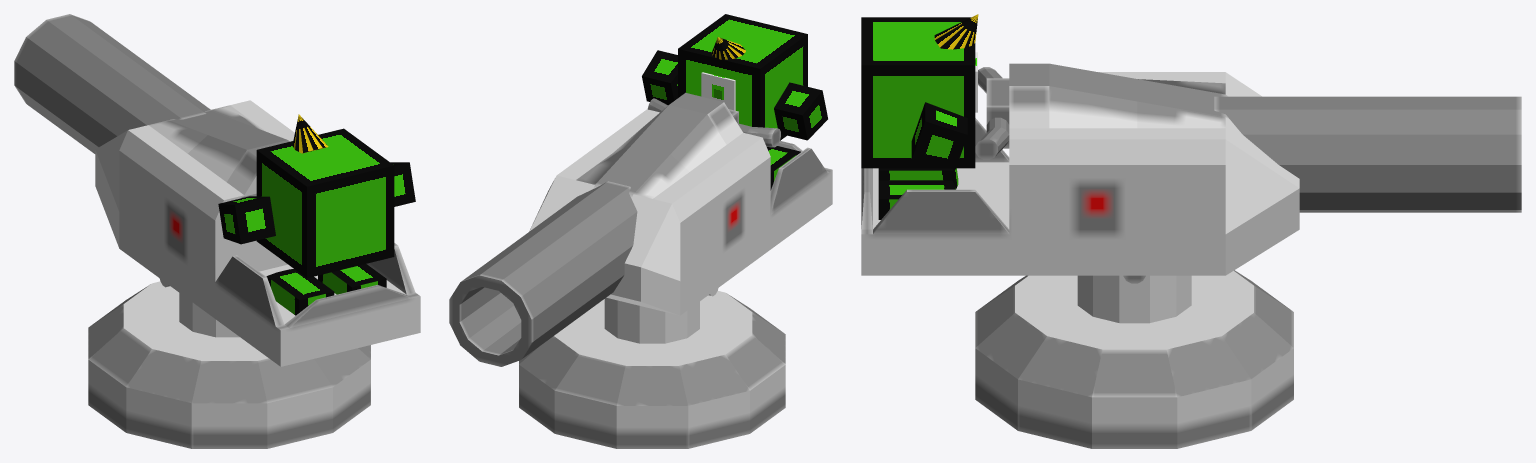
The model's file is akudo-fu+houdai-asyu.fbx.
3 renders of one model, left to right at view 1: azimuth 30°, elevation 25°; view 2: azimuth 150°, elevation 25°; view 3: azimuth 270°, elevation 25°, orthographic. The views are drawn at different scales.
Visible parts, largest first — view 1: cuboid_6, cylinder, cuboid, cylinder_2, cuboid_4, cuboid_2, cuboid_1, cylinder_1, cuboid_3, cone; view 2: cuboid_6, cylinder, cylinder_2, cuboid, cylinder_1, cuboid_4, cuboid_3, cuboid_5, cylinder_4, cuboid_2, cone; view 3: cuboid_6, cylinder, cylinder_2, cuboid, cylinder_1, cuboid_3, cylinder_4, cuboid_1, cuboid_2, cuboid_7, cone.
Part boxes in pixels (x1,y1,x2,y2): cuboid_6: [95, 100, 420, 366]; cylinder: [88, 281, 370, 448]; cuboid: [256, 128, 394, 277]; cylinder_2: [14, 14, 210, 153]; cuboid_4: [218, 196, 275, 244]; cuboid_2: [266, 269, 334, 315]; cuboid_1: [318, 264, 386, 294]; cylinder_1: [179, 293, 239, 337]; cuboid_3: [390, 162, 415, 206]; cone: [292, 114, 328, 153]; cuboid_6: [529, 92, 832, 315]; cylinder: [519, 291, 785, 448]; cylinder_2: [449, 181, 637, 366]; cuboid: [678, 14, 807, 149]; cylinder_1: [604, 297, 699, 343]; cuboid_4: [774, 82, 827, 140]; cuboid_3: [642, 50, 677, 105]; cuboid_5: [701, 72, 735, 110]; cylinder_4: [647, 98, 780, 147]; cuboid_2: [768, 146, 800, 190]; cone: [711, 37, 745, 59]; cuboid_6: [861, 63, 1299, 275]; cylinder: [975, 270, 1293, 448]; cylinder_2: [1214, 96, 1521, 212]; cuboid: [861, 17, 975, 168]; cylinder_1: [1077, 275, 1191, 323]; cuboid_3: [911, 102, 967, 169]; cylinder_4: [975, 67, 1009, 159]; cuboid_1: [878, 180, 955, 219]; cuboid_2: [878, 168, 958, 189]; cuboid_7: [986, 78, 1009, 148]; cone: [934, 14, 978, 49].
Bounding box in the file's own units: 175 × 223 × 362.
